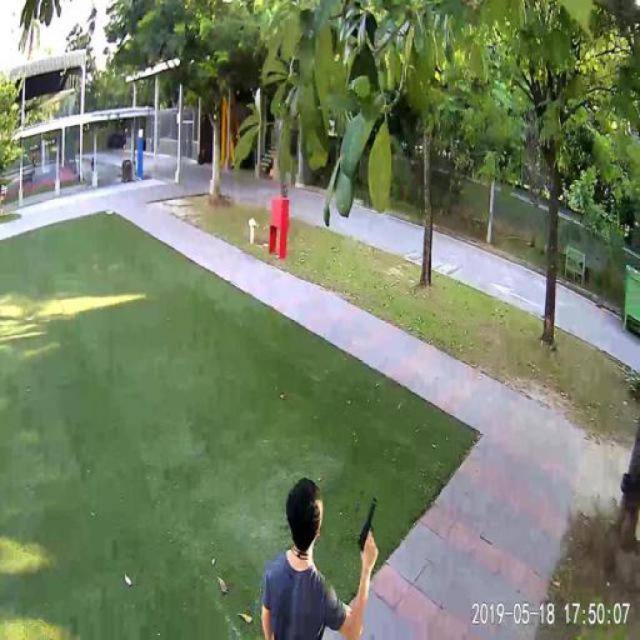pistol: (355, 494, 375, 548)
